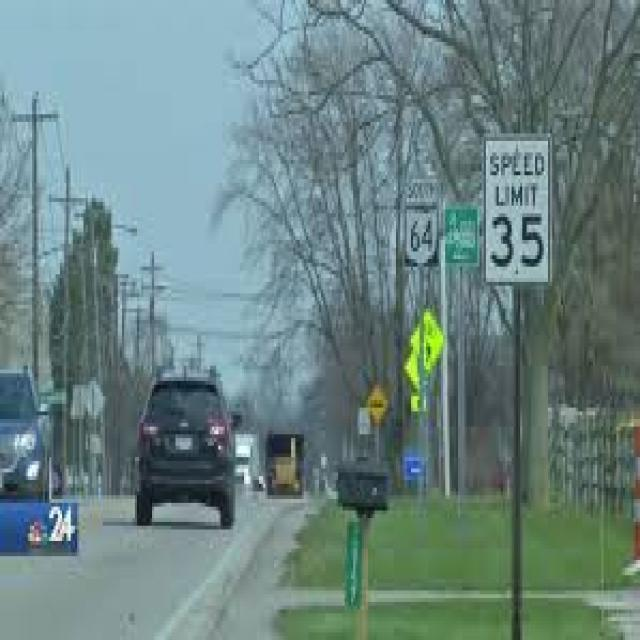speedLimit35: (484, 137, 550, 290)
